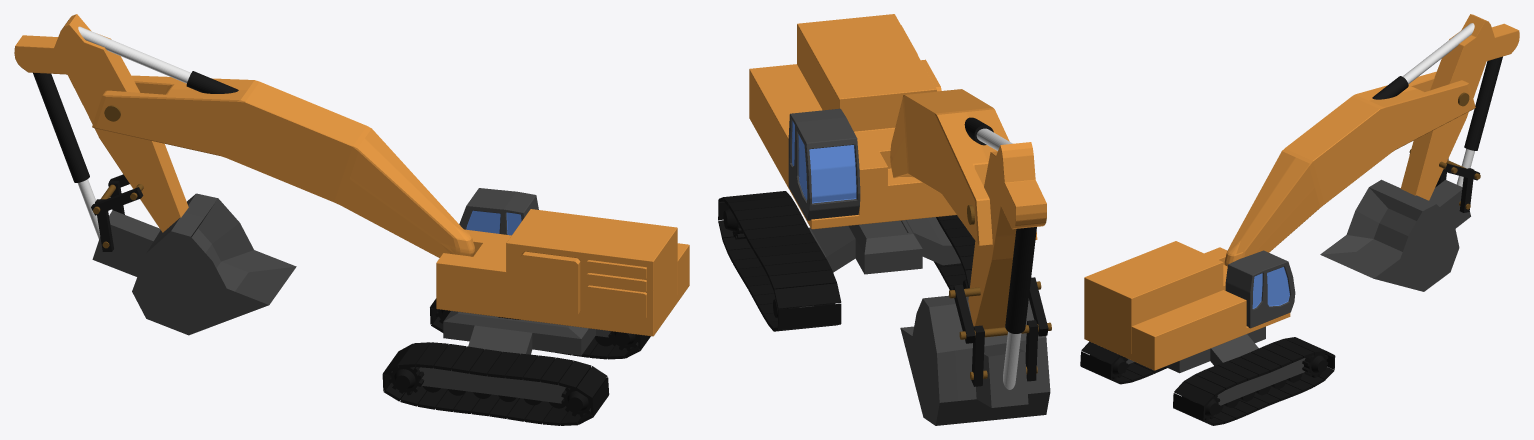
The model's file is ecavator.fbx.
3 renders of one model, left to right at view 1: azimuth 30°, elevation 25°; view 2: azimuth 150°, elevation 25°; view 3: azimuth 270°, elevation 25°, orthographic. The views are drawn at different scales.
Parts seen in each view (by area): view 1: Cube.022, Cube.034, Cube.024, Cube.023, Cube.030, Cube.026, Cube.021, Cube.020, Cylinder.013, Cube.031, Cylinder.016, Cube.025 (+6 smaller); view 2: Cube.034, Cube.024, Cube.029, Cube.022, Cube.023, Cube.020, Cube.026, Cube.025, Cylinder.013, Cube.030, Cylinder.014, Cylinder.016 (+3 smaller); view 3: Cube.022, Cube.034, Cube.024, Cube.029, Cube.023, Cube.020, Cube.026, Cube.030, Cylinder.013, Cylinder.016, Cube.025, Gear.007 (+2 smaller).
Part boxes in pixels (x1,y1,x2,y2): Cube.022: (92,75,475,257); Cube.034: (436,209,689,336); Cube.024: (92,193,296,335); Cube.023: (14,14,188,232); Cube.030: (382,342,609,425); Cube.026: (419,311,610,403); Cube.021: (519,251,580,316); Cube.020: (459,188,538,235); Cylinder.013: (33,72,89,182); Cube.031: (586,285,647,318); Cylinder.016: (78,26,190,83); Cube.025: (91,174,143,251); Cube.034: (749,14,956,229); Cube.024: (900,295,1050,425); Cube.029: (718,191,841,331); Cube.022: (890,89,1037,245); Cube.023: (968,142,1046,329); Cube.020: (788,108,860,220); Cube.026: (799,217,960,307); Cube.025: (953,277,1048,386); Cylinder.013: (1005,227,1036,333); Cube.030: (934,215,975,290); Cylinder.014: (1003,331,1021,389); Cylinder.016: (976,128,1012,150); Cube.022: (1224,71,1475,266); Cube.034: (1084,241,1290,370); Cube.024: (1320,179,1470,291); Cube.029: (1173,337,1335,425); Cube.023: (1400,14,1519,200); Cube.020: (1225,250,1295,328); Cube.026: (1099,326,1305,405); Cube.030: (1080,341,1166,384); Cylinder.013: (1464,56,1502,150); Cylinder.016: (1402,23,1474,84); Cube.025: (1409,154,1479,212); Gear.007: (1302,353,1328,377).
Size of the model in its own units: 518 by 324 by 519.
